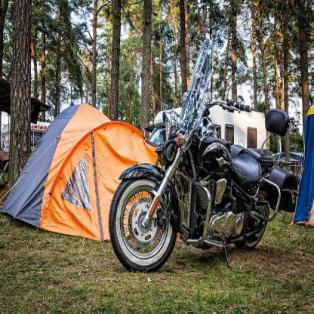Motocicleta: (109, 49, 280, 278)
